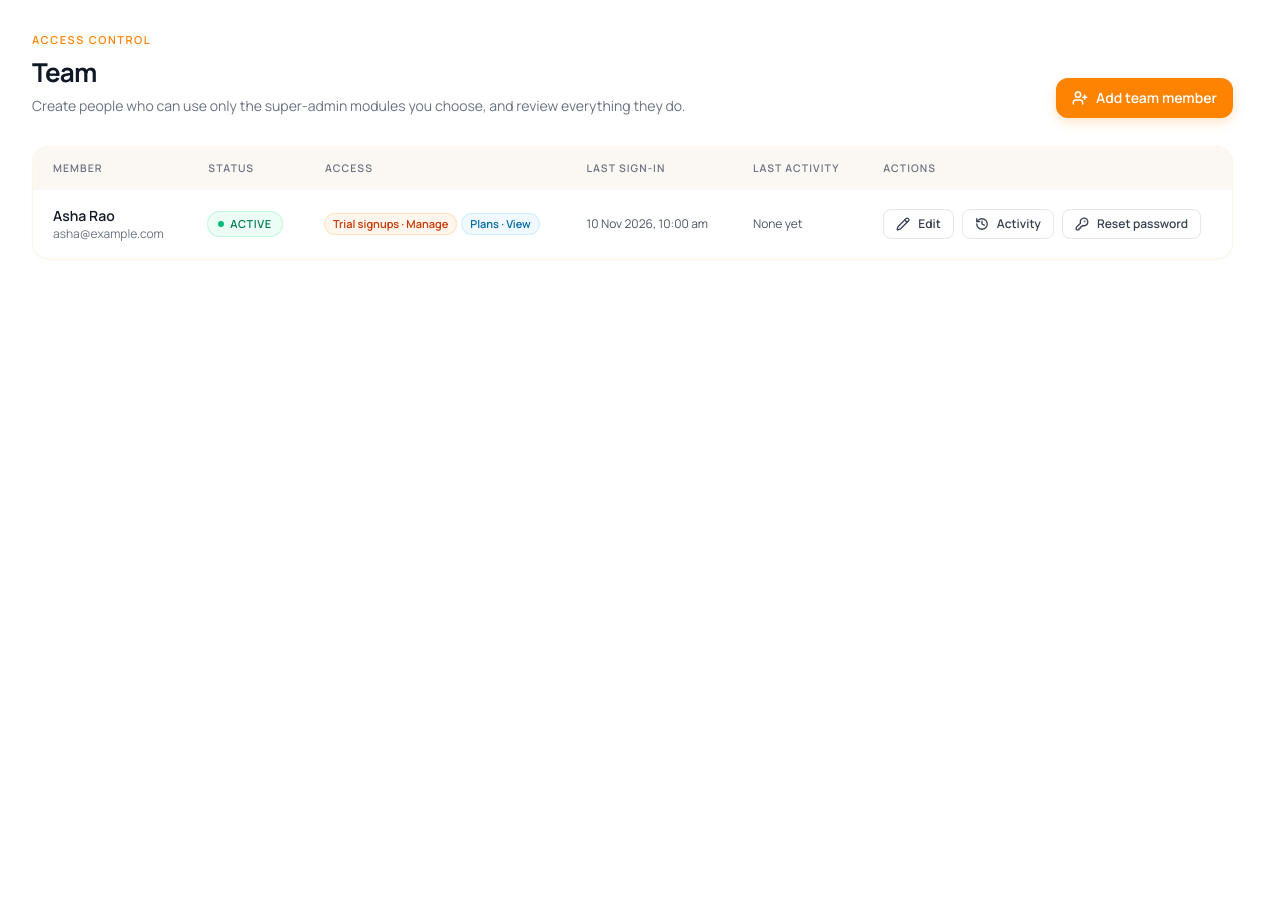
Add member › shows the server 409 message
The image size is (1280, 900).
Click the button "Add team member" at (1144, 98), box left=1056, top=78, right=1233, bottom=118
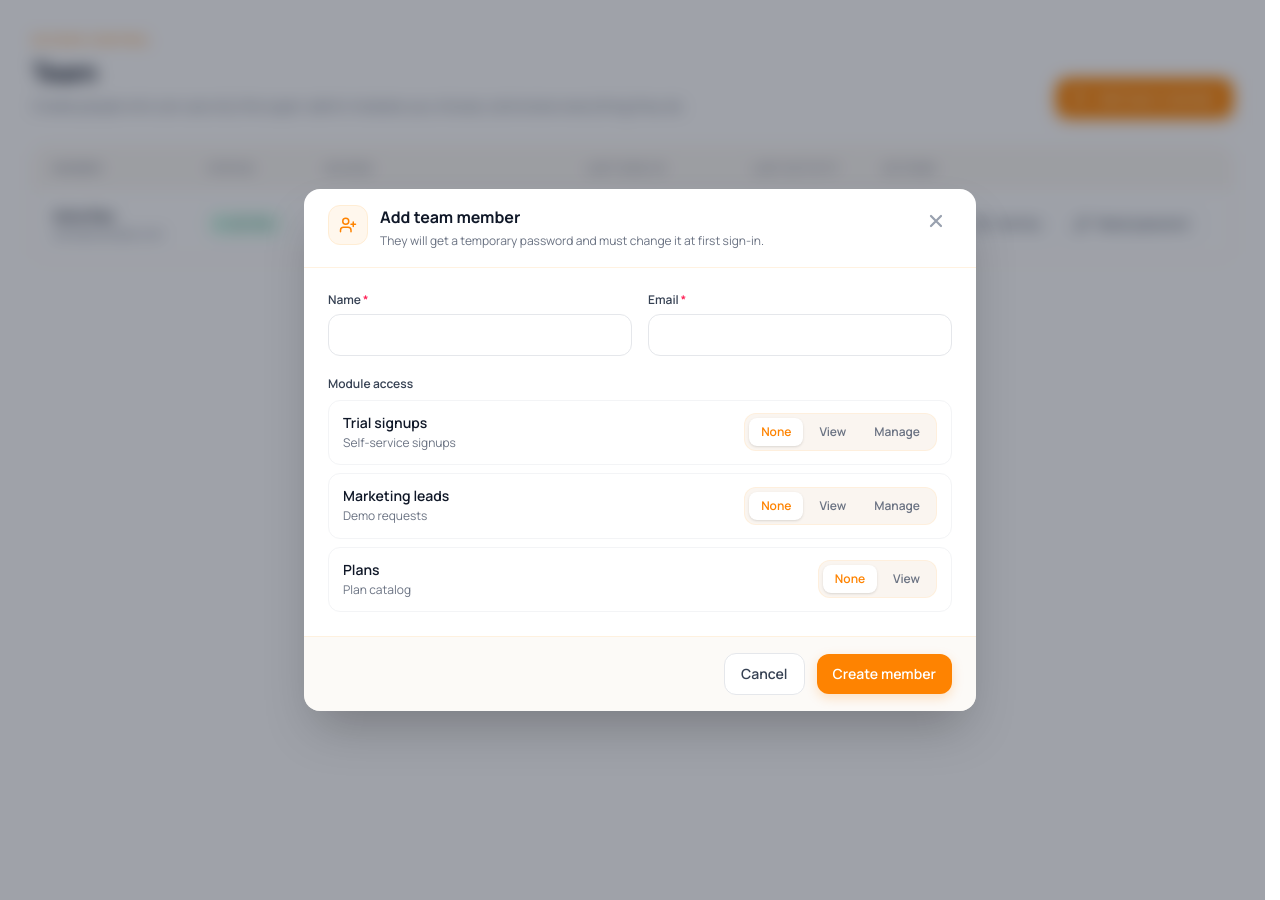
Expected: the field labelled "Name" is shown
Type "New Person" into the field labelled "Name" at (480, 334), box left=328, top=314, right=632, bottom=356
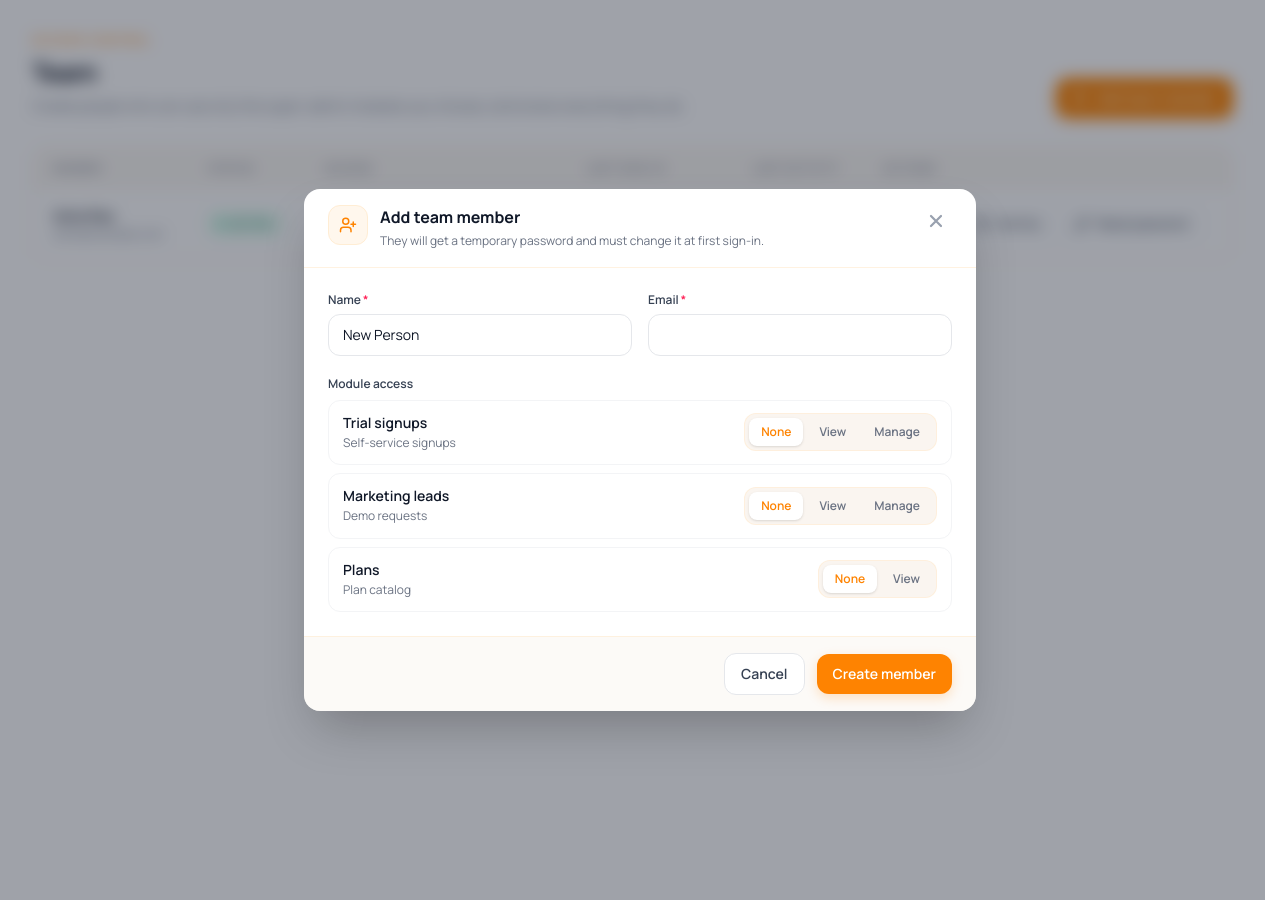
Type "dup@example.com" into the field labelled "Email" at (800, 334), box left=648, top=314, right=952, bottom=356
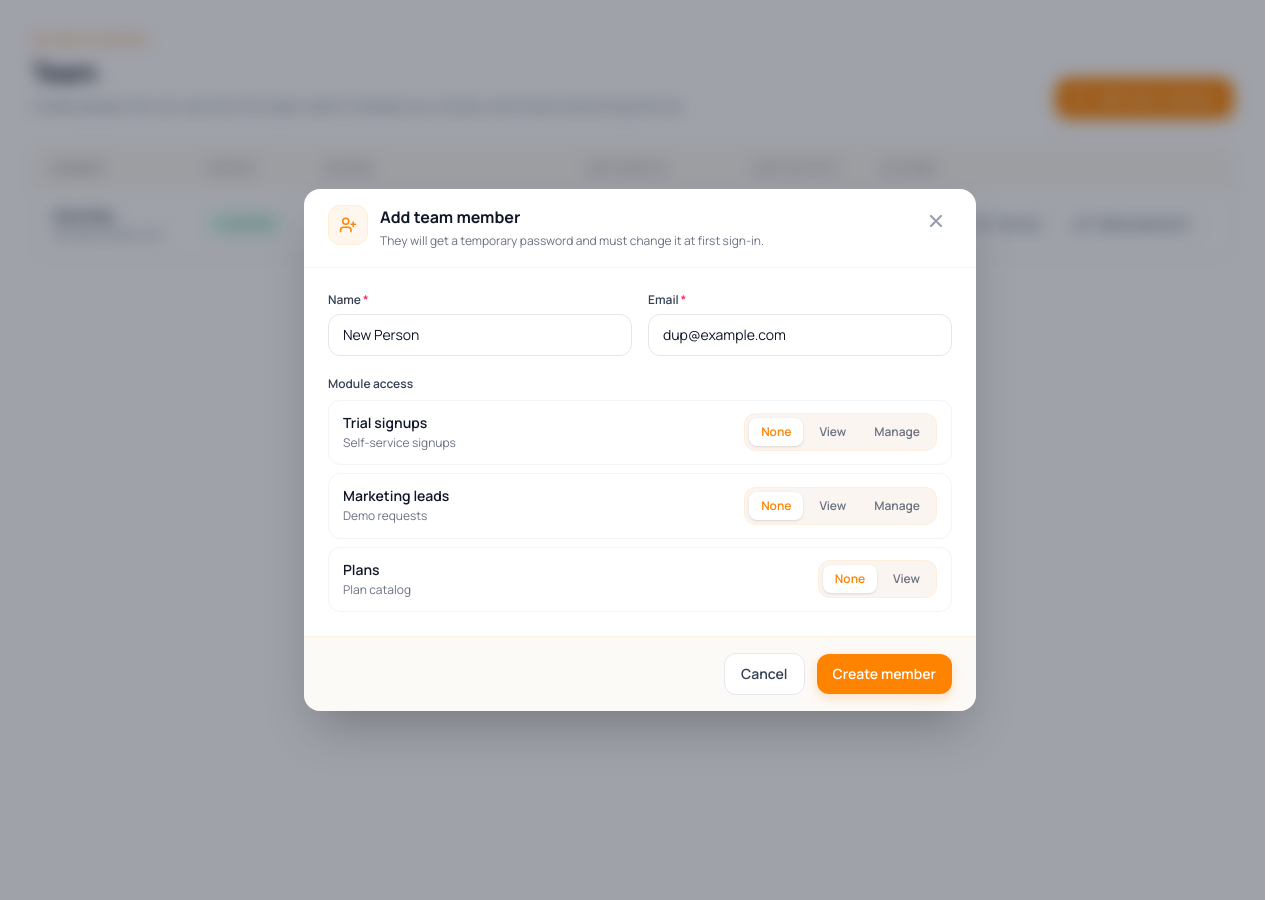
Click the radio button with aria-label "Marketing leads: View" at (833, 506), box left=807, top=492, right=858, bottom=520
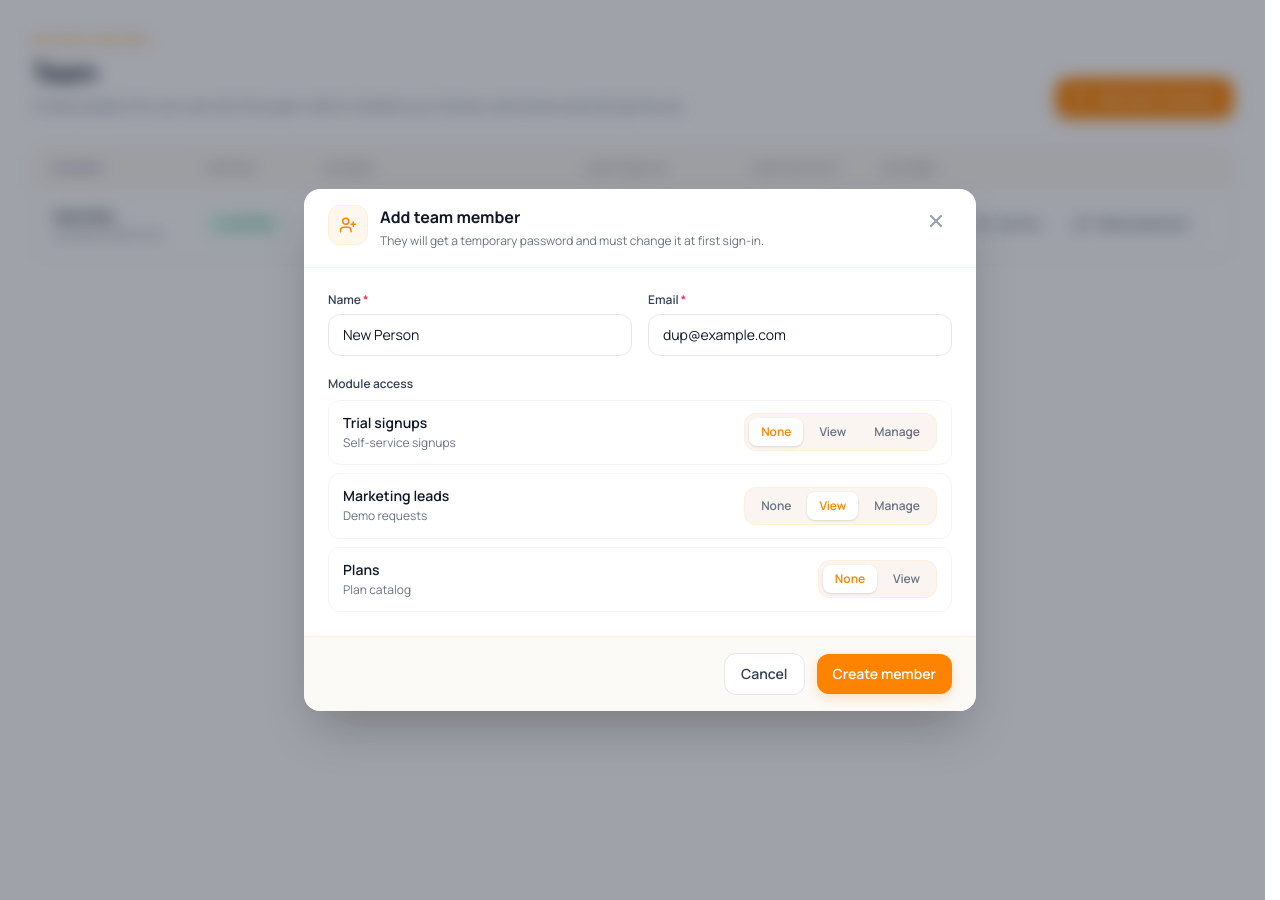
Click the button "Create member" at (884, 674), box left=817, top=654, right=952, bottom=694
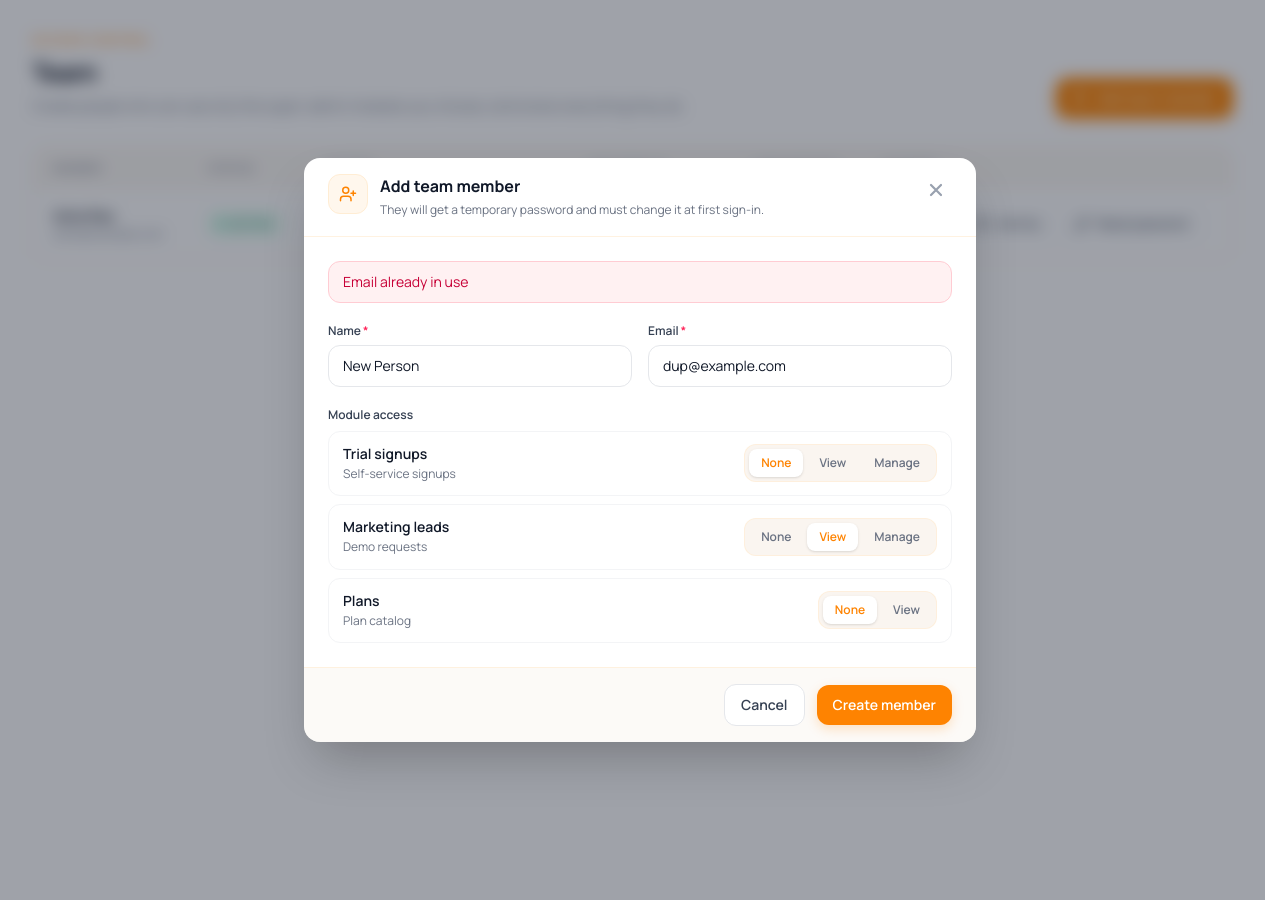
Expected: the text "Email already in use" is shown, left=328, top=260, right=952, bottom=302
